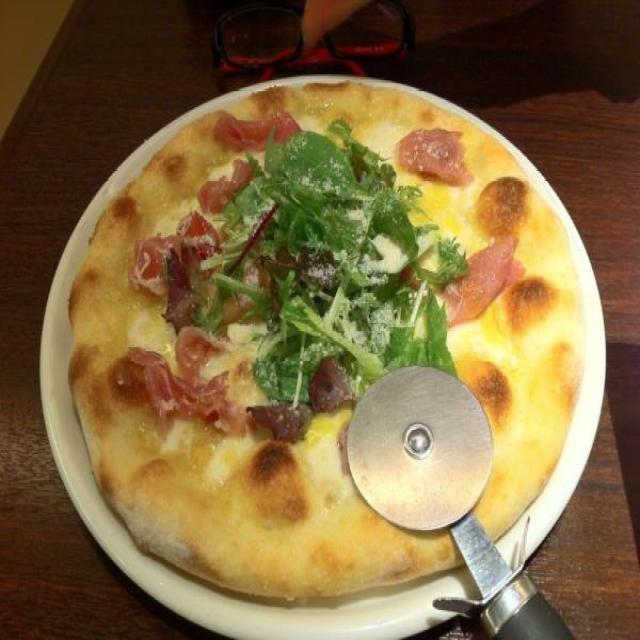Pizza: (58, 69, 588, 602)
